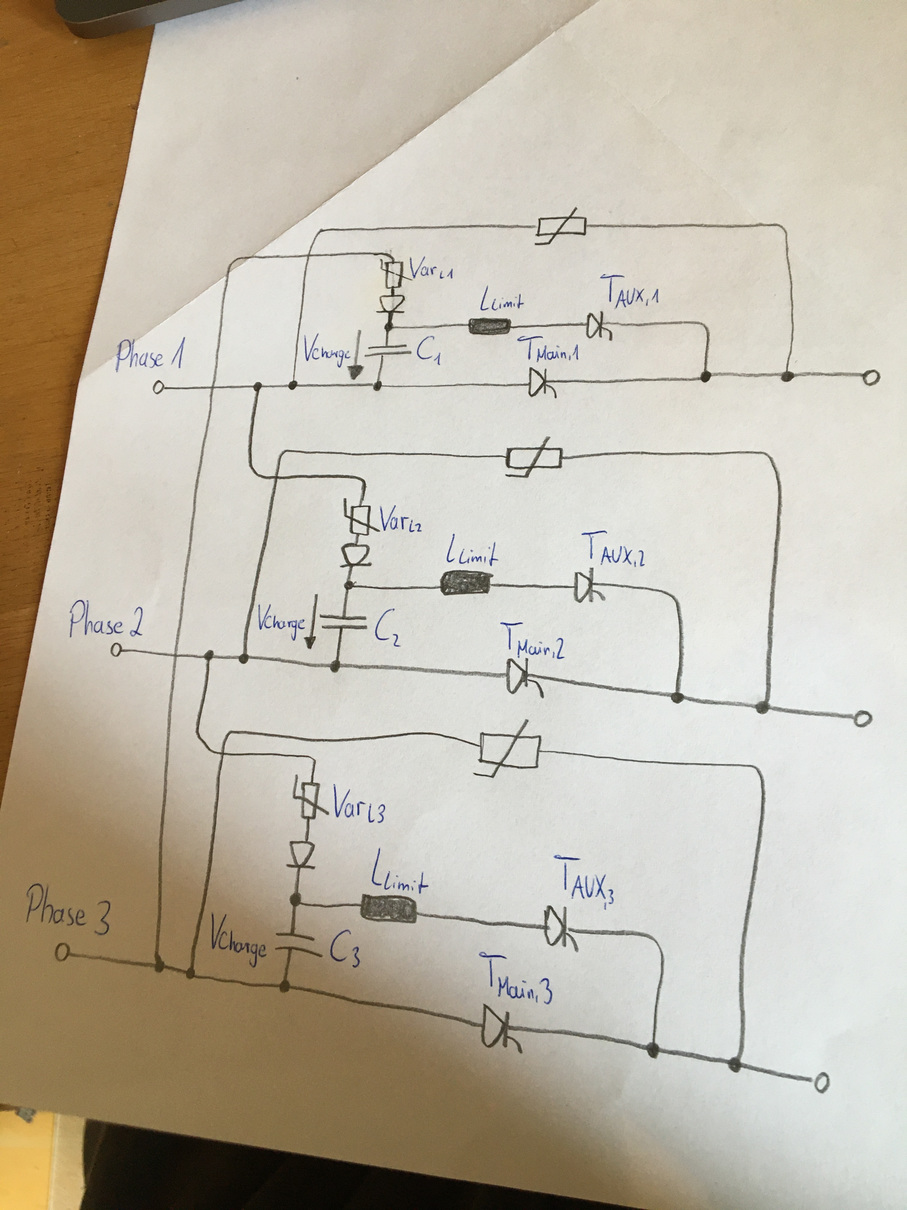capacitor.unpolarized: (273, 930, 325, 959), (318, 612, 369, 634), (364, 342, 412, 359)
crossover: (169, 649, 184, 662), (207, 382, 220, 394), (272, 472, 283, 483), (218, 748, 228, 759), (304, 251, 314, 261)
diode: (284, 839, 319, 872), (339, 541, 374, 569), (375, 293, 407, 316)
inductor: (359, 892, 418, 925), (438, 568, 495, 598), (467, 316, 513, 337)
junction: (640, 930, 665, 959), (661, 587, 683, 609), (225, 254, 246, 274), (194, 731, 211, 752), (760, 449, 778, 468), (247, 461, 265, 480), (750, 762, 767, 782), (645, 1040, 661, 1060), (754, 699, 772, 716), (727, 1055, 743, 1074), (152, 955, 166, 974), (288, 891, 304, 907), (313, 227, 331, 241), (670, 690, 686, 705), (773, 221, 789, 236), (779, 370, 796, 384), (698, 320, 712, 335), (278, 978, 291, 994), (237, 652, 251, 666), (223, 728, 237, 742), (329, 658, 342, 673), (276, 448, 291, 461), (202, 649, 216, 662), (184, 966, 197, 980), (699, 370, 712, 384), (352, 474, 368, 485), (383, 320, 396, 333), (371, 379, 383, 392), (343, 579, 357, 590), (287, 379, 298, 391), (252, 381, 263, 392), (306, 754, 318, 762), (386, 251, 395, 258)
terminal: (808, 1070, 832, 1096), (850, 708, 875, 730), (53, 941, 74, 963), (860, 368, 883, 388), (151, 378, 167, 396), (109, 641, 125, 659)
text: (23, 881, 112, 938), (477, 950, 555, 1007), (551, 853, 616, 910), (209, 911, 269, 969), (67, 597, 146, 641), (499, 619, 569, 662), (113, 335, 189, 374), (370, 845, 430, 894), (580, 528, 648, 570), (331, 781, 386, 825), (599, 272, 662, 309), (444, 532, 500, 567), (517, 333, 580, 364), (257, 602, 307, 641), (302, 331, 352, 368), (378, 502, 424, 535), (477, 284, 527, 314), (328, 928, 362, 970), (373, 606, 404, 650), (408, 253, 455, 282), (415, 334, 443, 368)
thyristor: (481, 1002, 524, 1049), (543, 904, 578, 947), (505, 657, 545, 694), (573, 567, 606, 603), (527, 366, 558, 397), (585, 310, 615, 338)
varistor: (473, 718, 542, 779), (504, 435, 565, 479), (533, 206, 588, 246), (291, 773, 330, 821), (342, 496, 381, 537), (379, 257, 413, 290)
